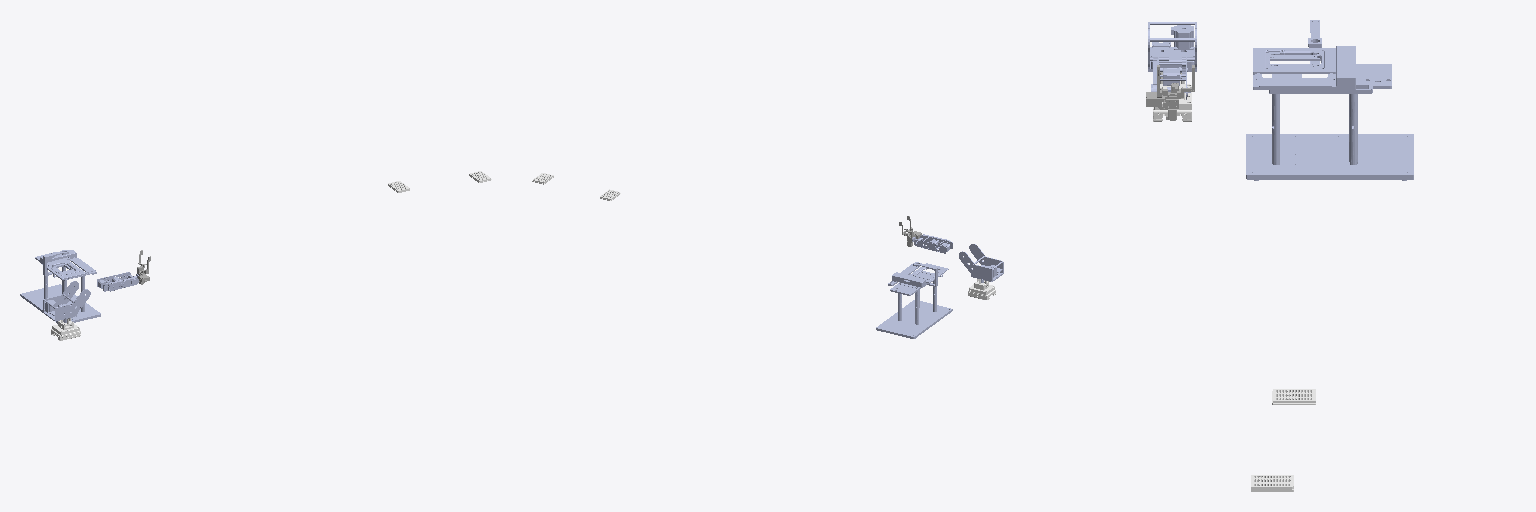
URDF robot description (digital-twin-lab-v4):
<?xml version="1.0" encoding="utf-8"?>
<!-- This URDF was automatically created by SolidWorks to URDF Exporter! Originally created by [author] ([email redacted]) 
     Commit Version: 1.6.0-4-g7f85cfe  Build Version: 1.6.7995.38578
     For more information, please see http://wiki.ros.org/sw_urdf_exporter -->
<robot
  name="digital-twin-lab-v4">
  <link
    name="base_link">
    <inertial>
      <origin
        xyz="0.653049682164994 0.306864386533706 0.21880478316424"
        rpy="0 0 0" />
      <mass
        value="462.943637851792" />
      <inertia
        ixx="36.0265418542219"
        ixy="0.00282870253676954"
        ixz="4.69489500754803E-10"
        iyy="76.7256657120751"
        iyz="-0.0348331755633966"
        izz="67.5997793901124" />
    </inertial>
    <visual>
      <origin
        xyz="0 0 0"
        rpy="0 0 0" />
      <geometry>
        <mesh
          filename="package://digital-twin-lab-v4/meshes/base_link.STL" />
      </geometry>
      <material
        name="">
        <color
          rgba="0.752941176470588 0.752941176470588 0.752941176470588 1" />
      </material>
    </visual>
    <collision>
      <origin
        xyz="0 0 0"
        rpy="0 0 0" />
      <geometry>
        <mesh
          filename="package://digital-twin-lab-v4/meshes/base_link.STL" />
      </geometry>
    </collision>
  </link>
  <link
    name="slide">
    <inertial>
      <origin
        xyz="-0.072603 0.012331 0.0033339"
        rpy="0 0 0" />
      <mass
        value="0.41998" />
      <inertia
        ixx="0.00060887"
        ixy="2.9612E-10"
        ixz="-1.1349E-09"
        iyy="0.00051075"
        iyz="1.166E-06"
        izz="0.0010393" />
    </inertial>
    <visual>
      <origin
        xyz="0 0 0"
        rpy="0 0 0" />
      <geometry>
        <mesh
          filename="package://digital-twin-lab-v4/meshes/slide.STL" />
      </geometry>
      <material
        name="">
        <color
          rgba="1 1 1 1" />
      </material>
    </visual>
    <collision>
      <origin
        xyz="0 0 0"
        rpy="0 0 0" />
      <geometry>
        <mesh
          filename="package://digital-twin-lab-v4/meshes/slide.STL" />
      </geometry>
    </collision>
  </link>
  <joint
    name="slide-j"
    type="prismatic">
    <origin
      xyz="-1.53877545795636 0.0374543865750461 0.0706999999999998"
      rpy="0 0 0" />
    <parent
      link="base_link" />
    <child
      link="slide" />
    <axis
      xyz="1 0 0" />
    <limit
      lower="0"
      upper="3.4"
      effort="0"
      velocity="0" />
  </joint>
  <link
    name="base">
    <inertial>
      <origin
        xyz="-0.072732 0.012744 0.039902"
        rpy="0 0 0" />
      <mass
        value="0.72268" />
      <inertia
        ixx="0.00075751"
        ixy="1.7307E-06"
        ixz="-3.1349E-07"
        iyy="0.0010077"
        iyz="3.2751E-07"
        izz="0.0017096" />
    </inertial>
    <visual>
      <origin
        xyz="0 0 0"
        rpy="0 0 0" />
      <geometry>
        <mesh
          filename="package://digital-twin-lab-v4/meshes/base.STL" />
      </geometry>
      <material
        name="">
        <color
          rgba="0.89804 0.91765 0.92941 1" />
      </material>
    </visual>
    <collision>
      <origin
        xyz="0 0 0"
        rpy="0 0 0" />
      <geometry>
        <mesh
          filename="package://digital-twin-lab-v4/meshes/base.STL" />
      </geometry>
    </collision>
  </link>
  <joint
    name="base-j"
    type="fixed">
    <origin
      xyz="0 0 0"
      rpy="0 0 0" />
    <parent
      link="slide" />
    <child
      link="base" />
    <axis
      xyz="0 0 0" />
    <limit
      lower="0"
      upper="0"
      effort="0"
      velocity="0" />
  </joint>
  <link
    name="arm1">
    <inertial>
      <origin
        xyz="-0.031936 0.0068556 0.11306"
        rpy="0 0 0" />
      <mass
        value="0.67527" />
      <inertia
        ixx="0.00084524"
        ixy="-1.2855E-05"
        ixz="-0.00044896"
        iyy="0.0020205"
        iyz="2.1595E-06"
        izz="0.0019142" />
    </inertial>
    <visual>
      <origin
        xyz="0 0 0"
        rpy="0 0 0" />
      <geometry>
        <mesh
          filename="package://digital-twin-lab-v4/meshes/arm1.STL" />
      </geometry>
      <material
        name="">
        <color
          rgba="0.79216 0.81961 0.93333 1" />
      </material>
    </visual>
    <collision>
      <origin
        xyz="0 0 0"
        rpy="0 0 0" />
      <geometry>
        <mesh
          filename="package://digital-twin-lab-v4/meshes/arm1.STL" />
      </geometry>
    </collision>
  </link>
  <joint
    name="arm1j"
    type="revolute">
    <origin
      xyz="-0.072527 0.0125 0.05791"
      rpy="0 0 0" />
    <parent
      link="base" />
    <child
      link="arm1" />
    <axis
      xyz="0 0 1" />
    <limit
      lower="0"
      upper="0"
      effort="0"
      velocity="0" />
  </joint>
  <link
    name="arm2">
    <inertial>
      <origin
        xyz="0.13154 0.44227 -0.21093"
        rpy="0 0 0" />
      <mass
        value="3.6362" />
      <inertia
        ixx="0.052831"
        ixy="0.00028289"
        ixz="3.9866E-06"
        iyy="0.019525"
        iyz="6.6187E-07"
        izz="0.067317" />
    </inertial>
    <visual>
      <origin
        xyz="0 0 0"
        rpy="0 0 0" />
      <geometry>
        <mesh
          filename="package://digital-twin-lab-v4/meshes/arm2.STL" />
      </geometry>
      <material
        name="">
        <color
          rgba="0.79216 0.81961 0.93333 1" />
      </material>
    </visual>
    <collision>
      <origin
        xyz="0 0 0"
        rpy="0 0 0" />
      <geometry>
        <mesh
          filename="package://digital-twin-lab-v4/meshes/arm2.STL" />
      </geometry>
    </collision>
  </link>
  <joint
    name="arm2j"
    type="revolute">
    <origin
      xyz="0.095476 0 0.19707"
      rpy="0 0 0" />
    <parent
      link="arm1" />
    <child
      link="arm2" />
    <axis
      xyz="0 1 0" />
    <limit
      lower="0"
      upper="0"
      effort="0"
      velocity="0" />
  </joint>
  <link
    name="arm3">
    <inertial>
      <origin
        xyz="0.03101 -0.0034044 -5.1127E-06"
        rpy="0 0 0" />
      <mass
        value="0.29344" />
      <inertia
        ixx="6.7363E-05"
        ixy="2.2346E-06"
        ixz="3.7979E-09"
        iyy="0.00057371"
        iyz="-3.2528E-09"
        izz="0.00054217" />
    </inertial>
    <visual>
      <origin
        xyz="0 0 0"
        rpy="0 0 0" />
      <geometry>
        <mesh
          filename="package://digital-twin-lab-v4/meshes/arm3.STL" />
      </geometry>
      <material
        name="">
        <color
          rgba="0.79216 0.81961 0.93333 1" />
      </material>
    </visual>
    <collision>
      <origin
        xyz="0 0 0"
        rpy="0 0 0" />
      <geometry>
        <mesh
          filename="package://digital-twin-lab-v4/meshes/arm3.STL" />
      </geometry>
    </collision>
  </link>
  <joint
    name="arm3-j"
    type="revolute">
    <origin
      xyz="0.2032 0 0"
      rpy="0 0 0" />
    <parent
      link="arm2" />
    <child
      link="arm3" />
    <axis
      xyz="0 1 0" />
    <limit
      lower="0"
      upper="0"
      effort="0"
      velocity="0" />
  </joint>
  <link
    name="wrist1">
    <inertial>
      <origin
        xyz="3.3653E-05 5.112E-05 4.9987E-09"
        rpy="0 0 0" />
      <mass
        value="0.019467" />
      <inertia
        ixx="6.4219E-06"
        ixy="-3.7209E-11"
        ixz="4.9331E-13"
        iyy="1.9403E-06"
        iyz="-2.6062E-12"
        izz="5.5182E-06" />
    </inertial>
    <visual>
      <origin
        xyz="0 0 0"
        rpy="0 0 0" />
      <geometry>
        <mesh
          filename="package://digital-twin-lab-v4/meshes/wrist1.STL" />
      </geometry>
      <material
        name="">
        <color
          rgba="0.79216 0.81961 0.93333 1" />
      </material>
    </visual>
    <collision>
      <origin
        xyz="0 0 0"
        rpy="0 0 0" />
      <geometry>
        <mesh
          filename="package://digital-twin-lab-v4/meshes/wrist1.STL" />
      </geometry>
    </collision>
  </link>
  <joint
    name="wrist1j"
    type="revolute">
    <origin
      xyz="0.1524 0 0"
      rpy="0 0 0" />
    <parent
      link="arm3" />
    <child
      link="wrist1" />
    <axis
      xyz="0 -1 0" />
    <limit
      lower="0"
      upper="0"
      effort="0"
      velocity="0" />
  </joint>
  <link
    name="wrist2">
    <inertial>
      <origin
        xyz="0.03422 9.5448E-05 0.0094365"
        rpy="0 0 0" />
      <mass
        value="0.010769" />
      <inertia
        ixx="8.9265E-07"
        ixy="2.3629E-10"
        ixz="6.4524E-08"
        iyy="3.7831E-06"
        iyz="2.8544E-10"
        izz="3.8619E-06" />
    </inertial>
    <visual>
      <origin
        xyz="0 0 0"
        rpy="0 0 0" />
      <geometry>
        <mesh
          filename="package://digital-twin-lab-v4/meshes/wrist2.STL" />
      </geometry>
      <material
        name="">
        <color
          rgba="0.79216 0.81961 0.93333 1" />
      </material>
    </visual>
    <collision>
      <origin
        xyz="0 0 0"
        rpy="0 0 0" />
      <geometry>
        <mesh
          filename="package://digital-twin-lab-v4/meshes/wrist2.STL" />
      </geometry>
    </collision>
  </link>
  <joint
    name="wrist2j"
    type="revolute">
    <origin
      xyz="0.00016592 0 -0.0099986"
      rpy="0 0 0" />
    <parent
      link="wrist1" />
    <child
      link="wrist2" />
    <axis
      xyz="1 0 0" />
    <limit
      lower="0"
      upper="0"
      effort="0"
      velocity="0" />
  </joint>
  <link
    name="gripper">
    <inertial>
      <origin
        xyz="0.0094918 -0.048605 0.02395"
        rpy="0 0 0" />
      <mass
        value="1.25" />
      <inertia
        ixx="0.00027027"
        ixy="1.4536E-06"
        ixz="-3.1469E-06"
        iyy="0.00026923"
        iyz="4.1089E-07"
        izz="0.00034054" />
    </inertial>
    <visual>
      <origin
        xyz="0 0 0"
        rpy="0 0 0" />
      <geometry>
        <mesh
          filename="package://digital-twin-lab-v4/meshes/gripper.STL" />
      </geometry>
      <material
        name="">
        <color
          rgba="0.75294 0.75294 0.75294 1" />
      </material>
    </visual>
    <collision>
      <origin
        xyz="0 0 0"
        rpy="0 0 0" />
      <geometry>
        <mesh
          filename="package://digital-twin-lab-v4/meshes/gripper.STL" />
      </geometry>
    </collision>
  </link>
  <joint
    name="gripperj"
    type="fixed">
    <origin
      xyz="0.049699 3.9885E-05 -0.0058763"
      rpy="0 0 0" />
    <parent
      link="wrist2" />
    <child
      link="gripper" />
    <axis
      xyz="0 0 0" />
  </joint>
  <link
    name="plate-incubator">
    <inertial>
      <origin
        xyz="-4.59589526851101E-05 -7.05328325164567E-05 0.00753805993131557"
        rpy="0 0 0" />
      <mass
        value="0.0868244944825265" />
      <inertia
        ixx="0.000126271352614738"
        ixy="2.40742980192318E-07"
        ixz="8.29625367850005E-09"
        iyy="5.64144498466671E-05"
        iyz="1.27388047133168E-08"
        izz="0.000180549328693109" />
    </inertial>
    <visual>
      <origin
        xyz="0 0 0"
        rpy="0 0 0" />
      <geometry>
        <mesh
          filename="package://digital-twin-lab-v4/meshes/plate-incubator.STL" />
      </geometry>
      <material
        name="">
        <color
          rgba="1 1 1 1" />
      </material>
    </visual>
    <collision>
      <origin
        xyz="0 0 0"
        rpy="0 0 0" />
      <geometry>
        <mesh
          filename="package://digital-twin-lab-v4/meshes/plate-incubator.STL" />
      </geometry>
    </collision>
  </link>
  <joint
    name="plate-incubator-j"
    type="fixed">
    <origin
      xyz="1.4197 0.33999 0.26826"
      rpy="0 0 0" />
    <parent
      link="base_link" />
    <child
      link="plate-incubator" />
    <axis
      xyz="0 0 0" />
  </joint>
  <link
    name="plate-microscope">
    <inertial>
      <origin
        xyz="4.59589526852211E-05 7.05328323838406E-05 0.00753805993131673"
        rpy="0 0 0" />
      <mass
        value="0.0868244944825262" />
      <inertia
        ixx="0.000126271352614738"
        ixy="2.40742980191728E-07"
        ixz="-8.29625367427433E-09"
        iyy="5.64144498466676E-05"
        iyz="-1.27388068978214E-08"
        izz="0.000180549328693109" />
    </inertial>
    <visual>
      <origin
        xyz="0 0 0"
        rpy="0 0 0" />
      <geometry>
        <mesh
          filename="package://digital-twin-lab-v4/meshes/plate-microscope.STL" />
      </geometry>
      <material
        name="">
        <color
          rgba="1 1 1 1" />
      </material>
    </visual>
    <collision>
      <origin
        xyz="0 0 0"
        rpy="0 0 0" />
      <geometry>
        <mesh
          filename="package://digital-twin-lab-v4/meshes/plate-microscope.STL" />
      </geometry>
    </collision>
  </link>
  <joint
    name="plate-microscope-j"
    type="fixed">
    <origin
      xyz="0.89452 0.40325 0.2996"
      rpy="0 0 0" />
    <parent
      link="base_link" />
    <child
      link="plate-microscope" />
    <axis
      xyz="0 0 0" />
  </joint>
</robot>

--- Facts derived from the render (not from the file) ---
The picture shows the robot from 3 angles, left to right: view 1: azimuth 30°, elevation 25°; view 2: azimuth 150°, elevation 25°; view 3: azimuth 270°, elevation 25°; orthographic projection.
Robot: digital-twin-lab-v4 — 11 links, 10 joints (5 revolute, 1 prismatic, 4 fixed); root link base_link; default pose: every joint at zero.
Links seen in each view (by area): view 1: arm2, arm1; view 2: arm2, arm1; view 3: arm2, arm1, gripper, arm3, plate-incubator, plate-microscope, slide.
Boxes of the visible links, x1,y1,x2,y2 form: arm2: [20, 250, 100, 323]; arm1: [43, 281, 90, 322]; arm2: [876, 262, 952, 338]; arm1: [959, 244, 1003, 282]; arm2: [1246, 20, 1413, 180]; arm1: [1148, 22, 1196, 71]; gripper: [1146, 65, 1194, 120]; arm3: [1151, 54, 1187, 99]; plate-incubator: [1251, 475, 1293, 491]; plate-microscope: [1272, 389, 1315, 404]; slide: [1153, 72, 1191, 121].
Bounding box of the posed robot: 3.19 × 0.7809 × 0.4576 m (x, y, z).
Meshes: 11 distinct files referenced, 10 mesh visuals loaded (10 binary STL); not drawn: 1 (reference not matched to a file when rendering).